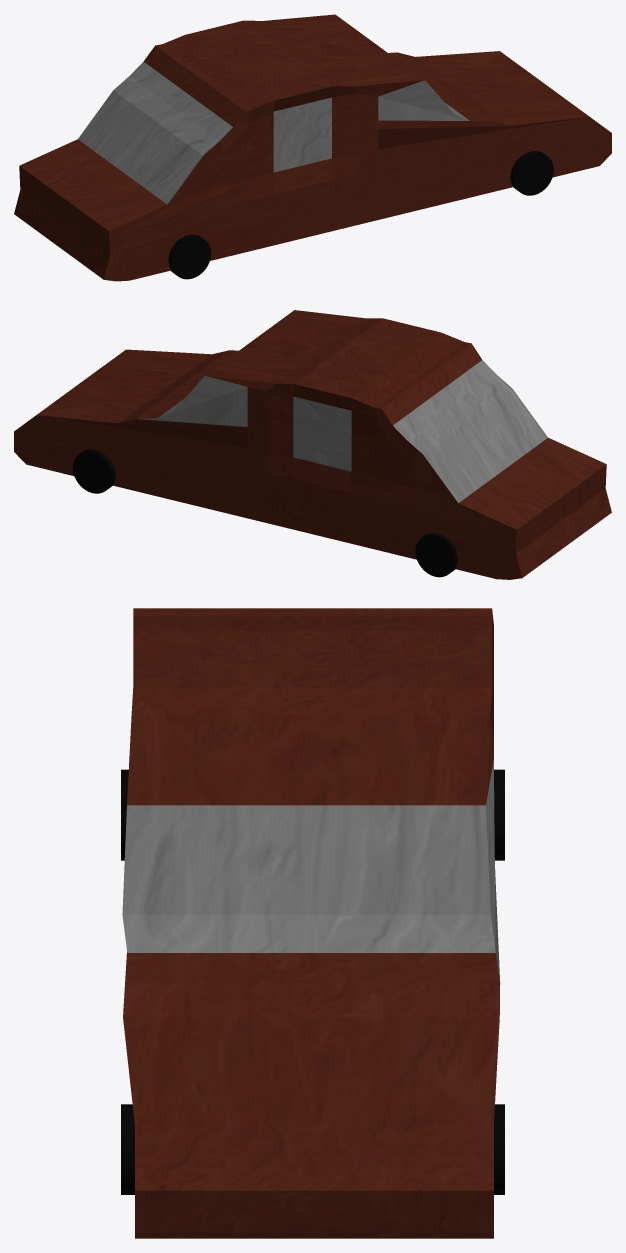
File: redCar.fbx
3 views of the same model, one above another, from view 1: azimuth 30°, elevation 25°; view 2: azimuth 150°, elevation 25°; view 3: azimuth 270°, elevation 25° (orthographic). The views are drawn at different scales.
Visible parts, largest first — view 1: Korpus, Koleso; view 2: Korpus, Koleso; view 3: Korpus, Koleso.
Part boxes in pixels (<box>): Korpus: <box>14,14,611,281</box>; Koleso: <box>168,151,553,279</box>; Korpus: <box>14,310,611,579</box>; Koleso: <box>72,449,457,577</box>; Korpus: <box>122,608,500,1238</box>; Koleso: <box>121,769,504,1194</box>.
Size of the model in its own units: 654 by 191 by 214.
